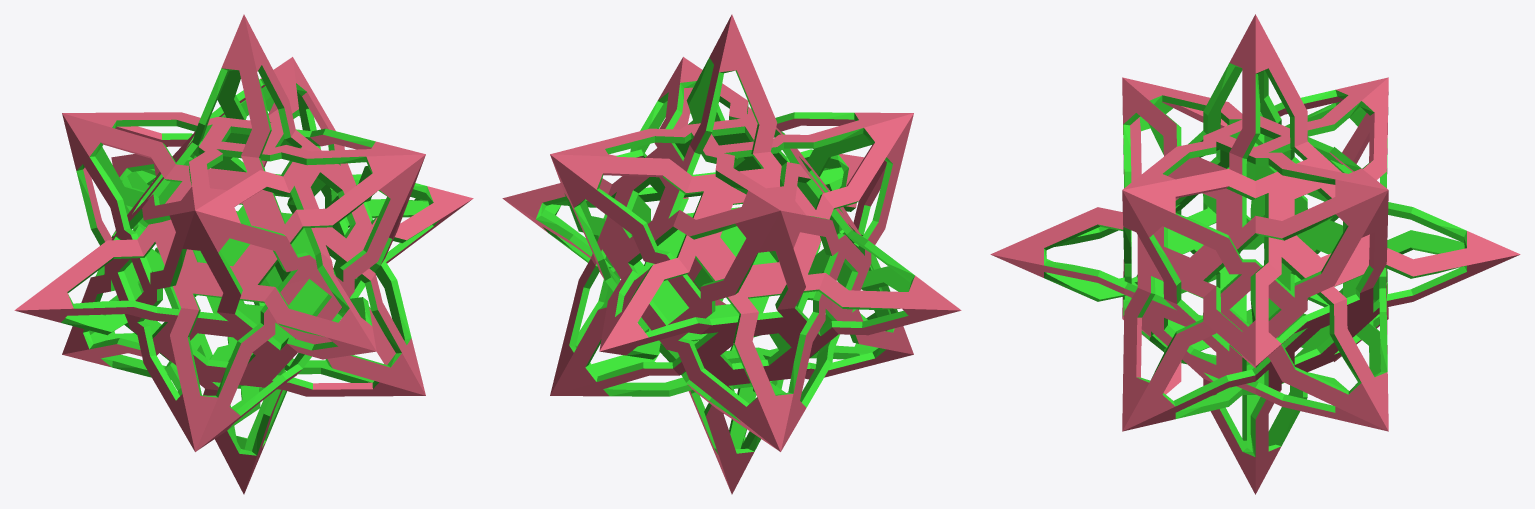
The model's file is StarPolyknotTruncatedOctahedron1.glb.
3 renders of one model, left to right at view 1: azimuth 30°, elevation 25°; view 2: azimuth 150°, elevation 25°; view 3: azimuth 270°, elevation 25°, orthographic.
Parts seen in each view (by area): view 1: ESCHER_BBBa_A3; view 2: ESCHER_BBBa_A3; view 3: ESCHER_BBBa_A3.
Part boxes in pixels (box(x1,y1,x2,y2)): ESCHER_BBBa_A3: box(14, 14, 473, 494); ESCHER_BBBa_A3: box(502, 14, 961, 494); ESCHER_BBBa_A3: box(990, 14, 1520, 494).
Bounding box in the file's own units: 150 × 150 × 150.
